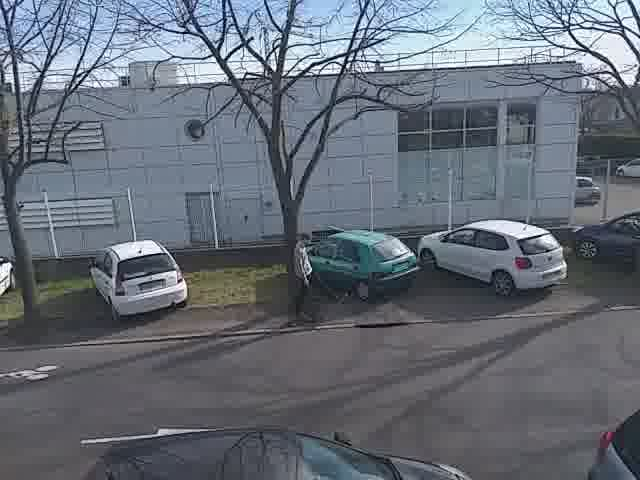persona: (284, 224, 338, 321)
